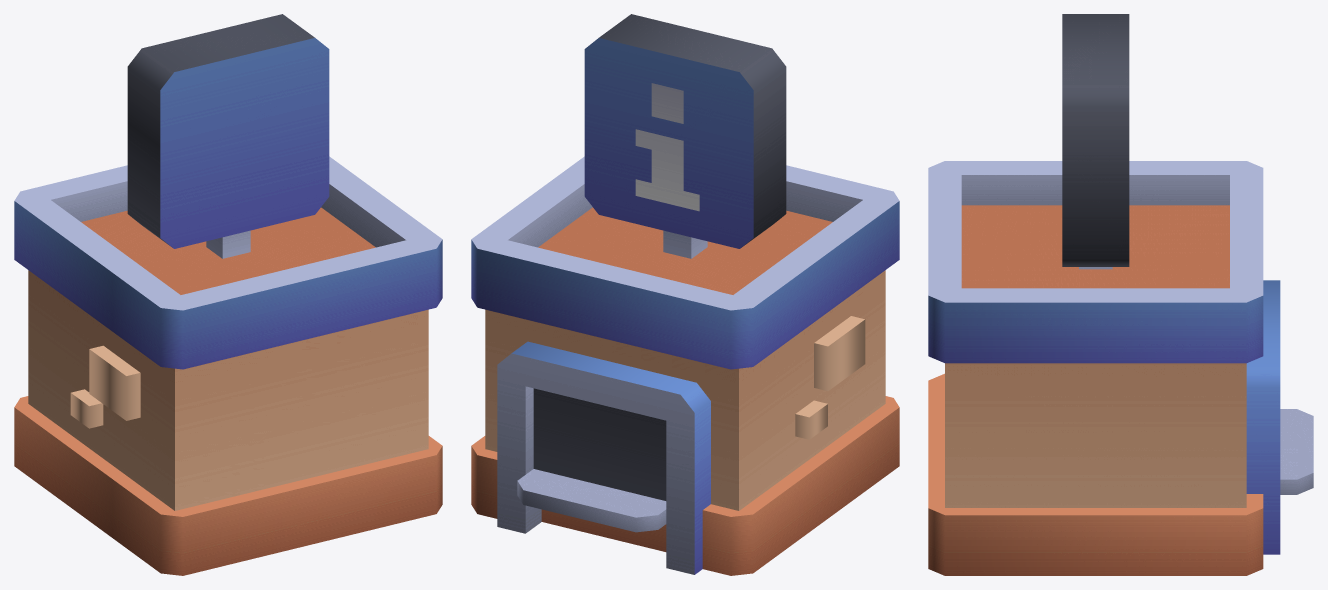
The model's file is stall-information.glb.
3 views of the same model, side by side, from view 1: azimuth 30°, elevation 25°; view 2: azimuth 150°, elevation 25°; view 3: azimuth 270°, elevation 25° (orthographic). The views are drawn at different scales.
Visible parts, largest first — view 1: stall-information; view 2: stall-information; view 3: stall-information.
Boxes of the visible parts, bbox=[...] form: stall-information: bbox=[14, 14, 442, 575]; stall-information: bbox=[471, 14, 899, 575]; stall-information: bbox=[928, 14, 1313, 575].
Bounding box in the file's own units: 3 × 4.5 × 3.45.
1 material, 1 textured.
